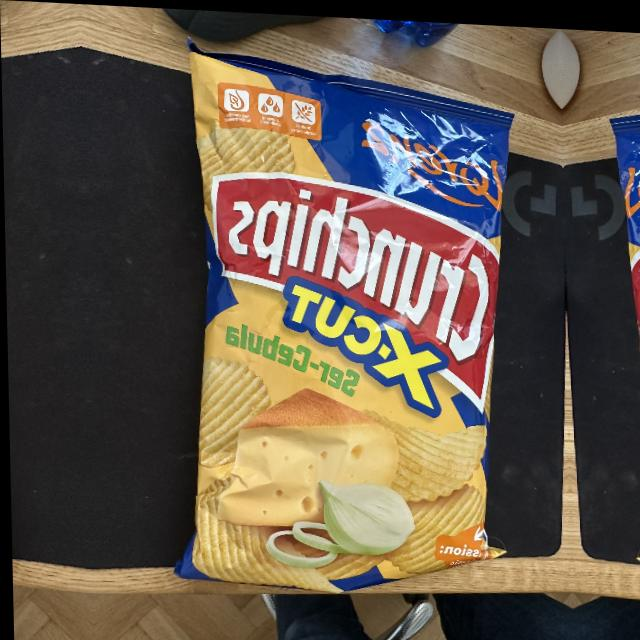crunchips: (211, 170, 500, 409)
